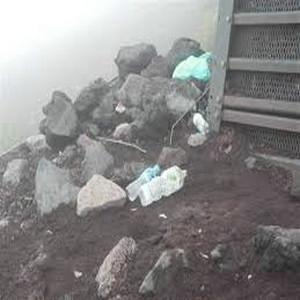Plastic: (139, 168, 193, 207)
